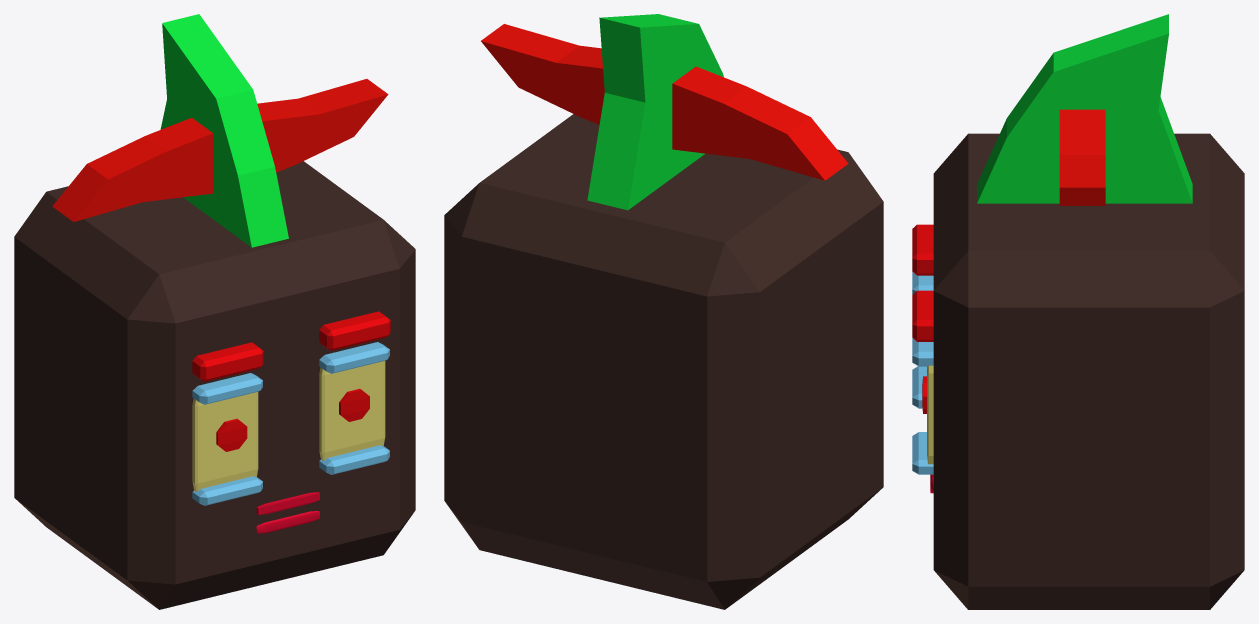
Rendered from boss_18.glb.
3 renders of one model, left to right at view 1: azimuth 30°, elevation 25°; view 2: azimuth 150°, elevation 25°; view 3: azimuth 270°, elevation 25°, orthographic. The views are drawn at different scales.
Parts seen in each view (by area): view 1: head, Cube, Cube.002, Cube.003, Cube.001, EyeBrown, lip_up, lip_up.001, eyes, eye, mouth', mouth; view 2: head, Cube, Cube.003, Cube.001; view 3: head, Cube, Cube.001, EyeBrown, lip_up.001, lip_up, Cube.002.
Part boxes in pixels (left/top/right/bottom): head: left=14, top=161, right=415, bottom=609; Cube: left=160, top=14, right=288, bottom=247; Cube.002: left=192, top=361, right=385, bottom=491; Cube.003: left=52, top=117, right=213, bottom=221; Cube.001: left=257, top=79, right=388, bottom=172; EyeBrown: left=192, top=311, right=390, bottom=381; lip_up: left=192, top=342, right=389, bottom=404; lip_up.001: left=192, top=445, right=389, bottom=505; eyes: left=216, top=418, right=247, bottom=451; eye: left=339, top=388, right=369, bottom=421; mouth': left=256, top=511, right=319, bottom=533; mouth: left=256, top=492, right=319, bottom=514; head: left=444, top=114, right=883, bottom=609; Cube: left=587, top=14, right=723, bottom=210; Cube.003: left=672, top=66, right=848, bottom=180; Cube.001: left=481, top=24, right=604, bottom=124; head: left=933, top=133, right=1244, bottom=609; Cube: left=977, top=14, right=1192, bottom=203; Cube.001: left=1059, top=109, right=1105, bottom=205; EyeBrown: left=912, top=224, right=933, bottom=341; lip_up.001: left=912, top=366, right=933, bottom=474; lip_up: left=912, top=272, right=933, bottom=366; Cube.002: left=927, top=365, right=933, bottom=464.
Size of the model in its own units: 0.866 by 1.3 by 0.74.
